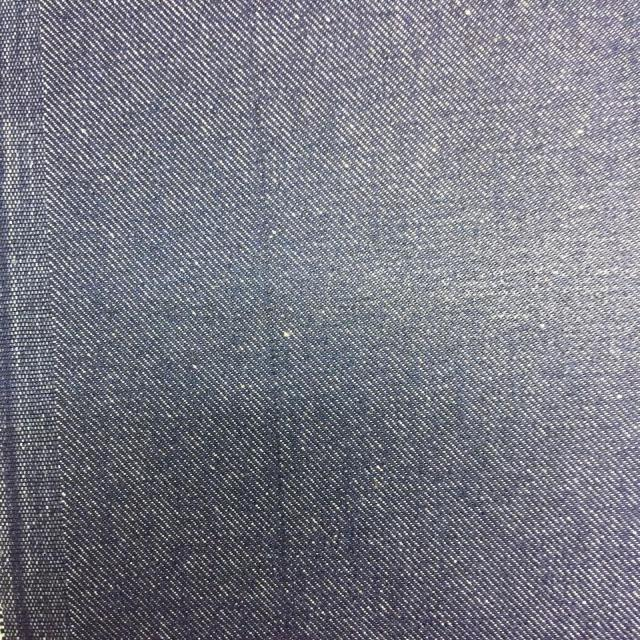Line: (237, 10, 295, 627)
